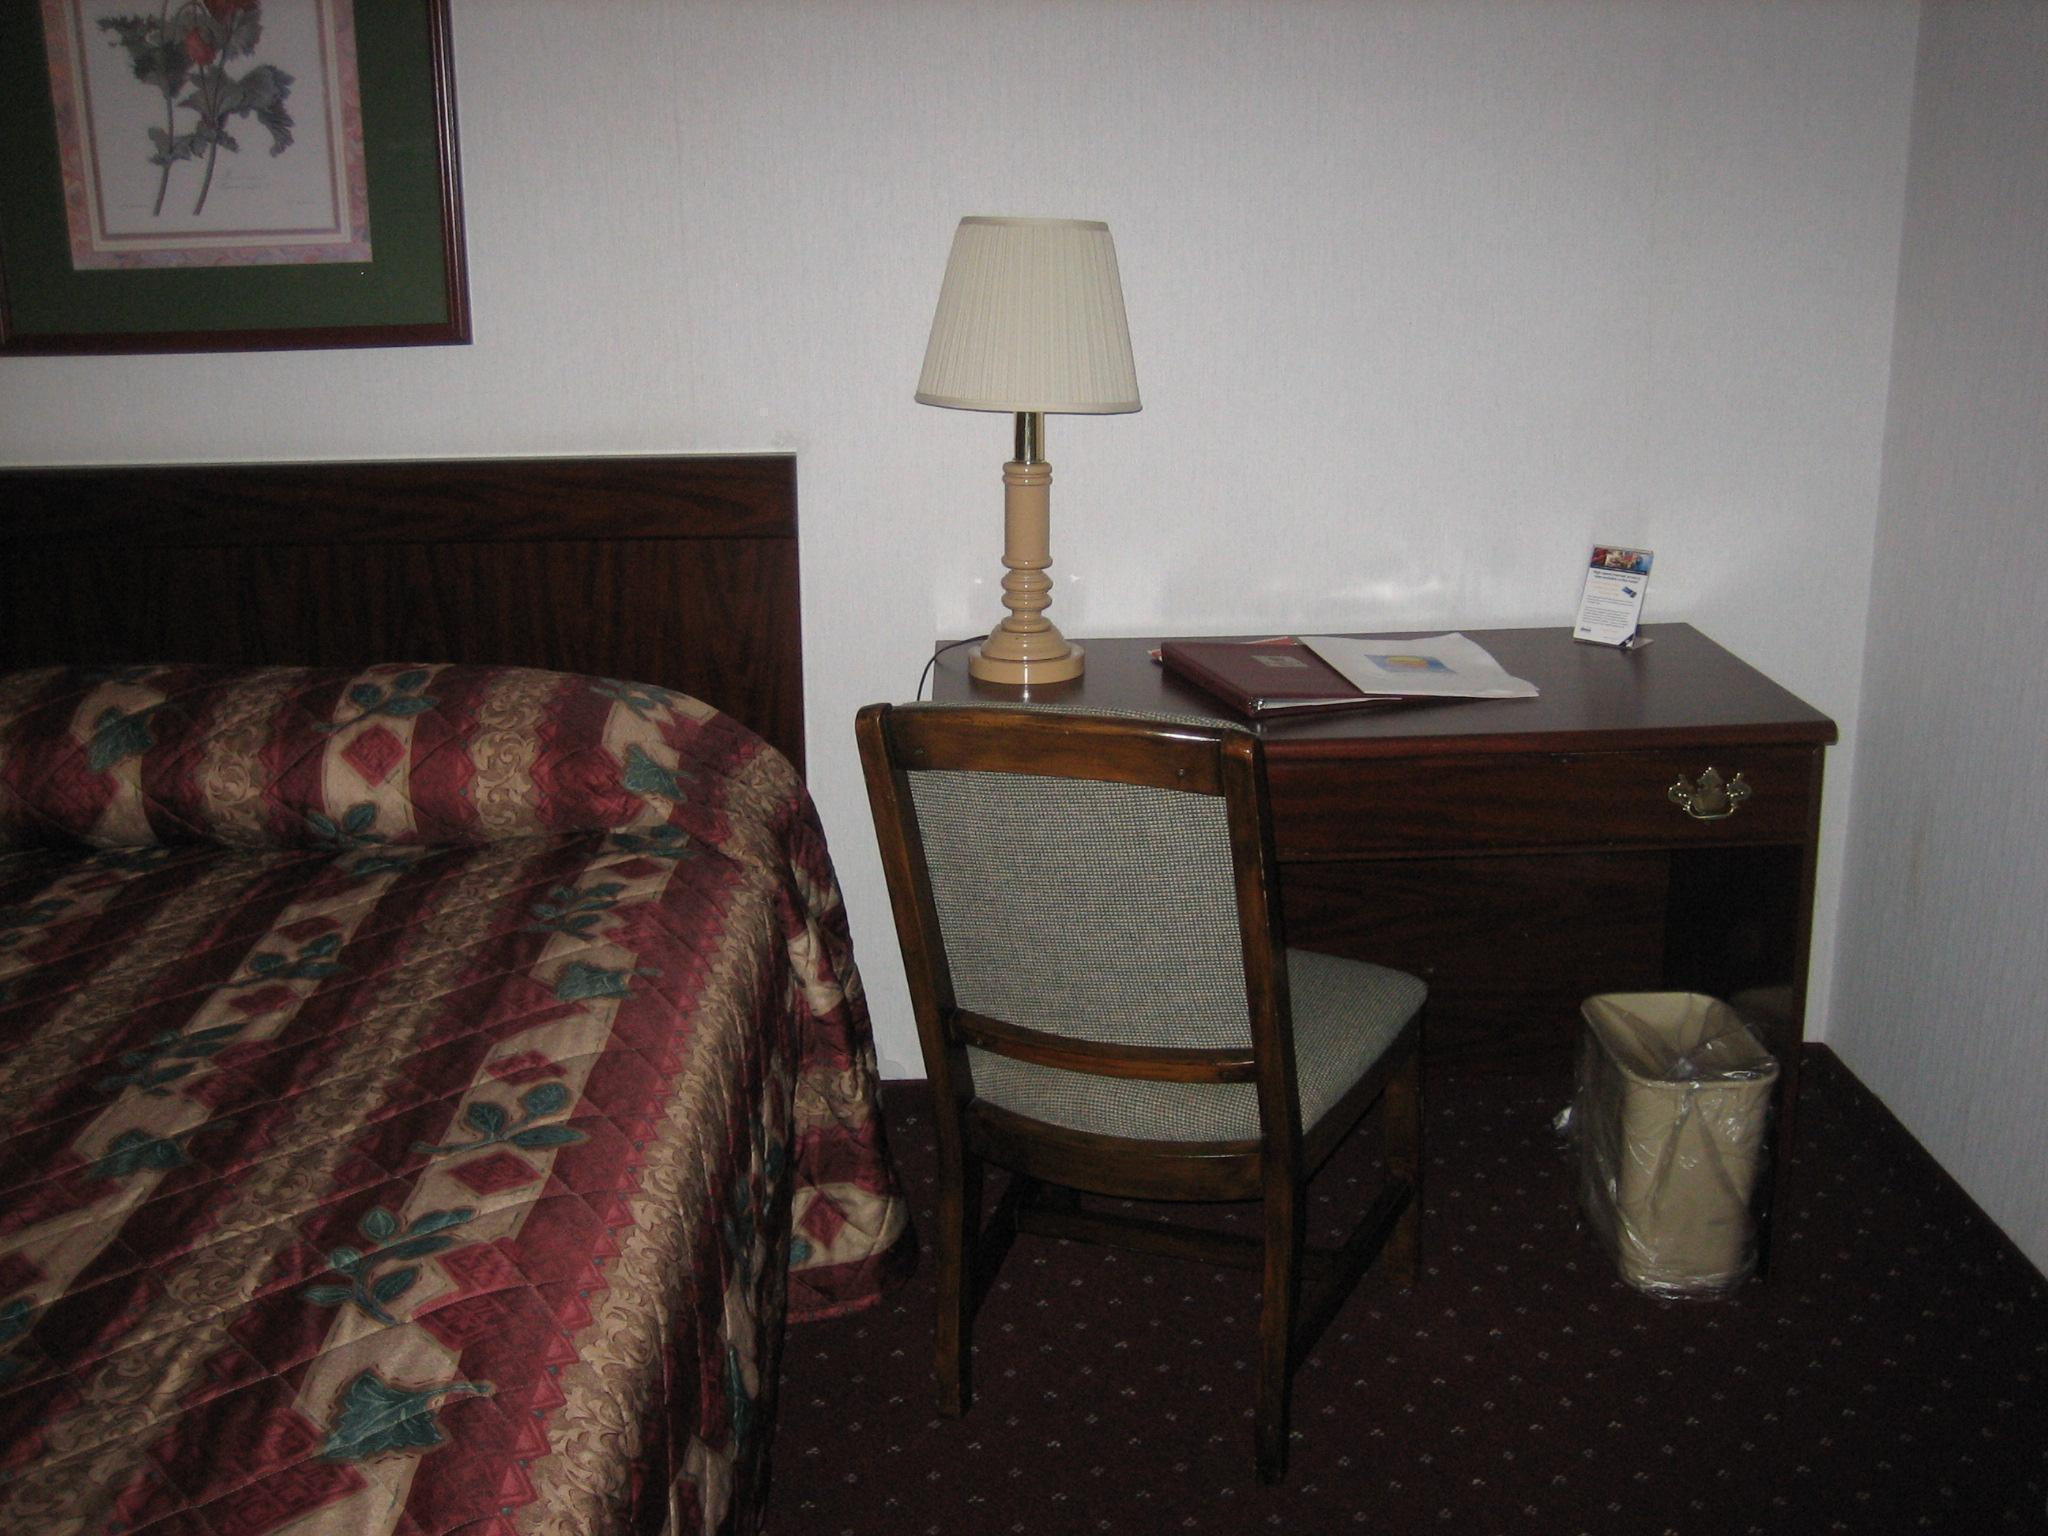Bote de Basura: (1550, 942, 1775, 1291)
Cama: (10, 481, 785, 1526)
